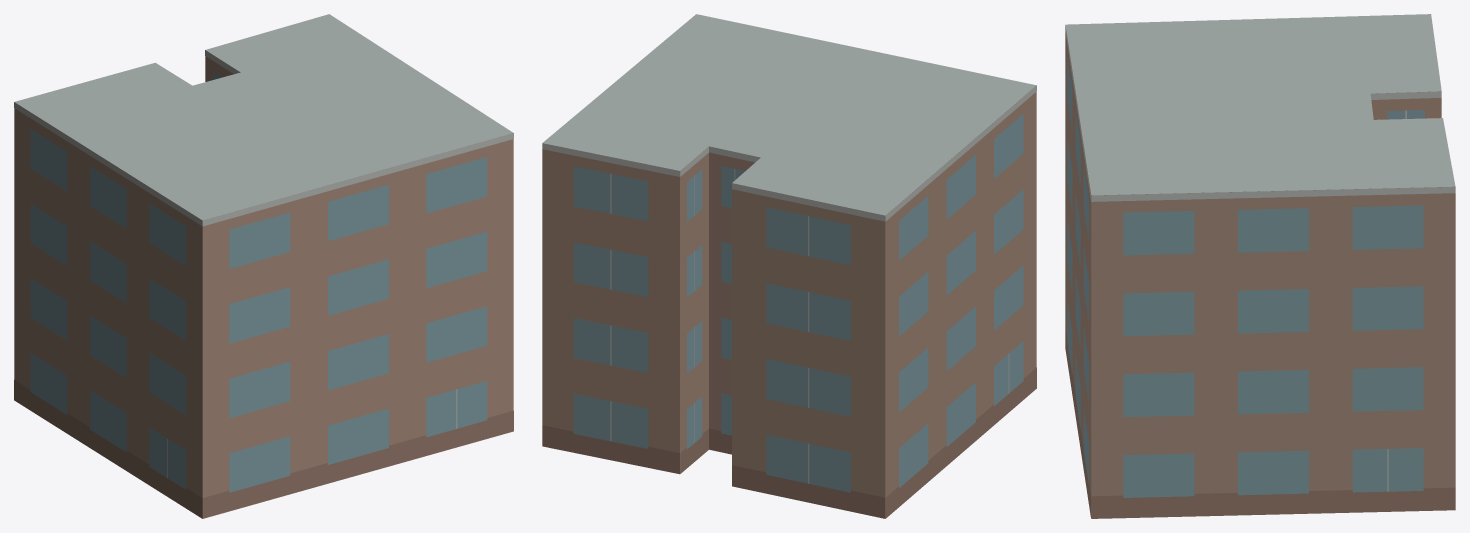
The model's file is survey-upis-32743156.glb.
The picture shows the model from 3 angles, left to right: view 1: azimuth 30°, elevation 25°; view 2: azimuth 150°, elevation 25°; view 3: azimuth 270°, elevation 25°; orthographic projection. The views are drawn at different scales.
Visible parts, largest first — view 1: survey-upis-32743156.tmp; view 2: survey-upis-32743156.tmp; view 3: survey-upis-32743156.tmp.
Part boxes in pixels (left/top/right/bottom): survey-upis-32743156.tmp: left=14, top=14, right=513, bottom=518; survey-upis-32743156.tmp: left=542, top=14, right=1036, bottom=518; survey-upis-32743156.tmp: left=1065, top=14, right=1455, bottom=518.
Size of the model in its own units: 14.68 by 12.2 by 13.35.
